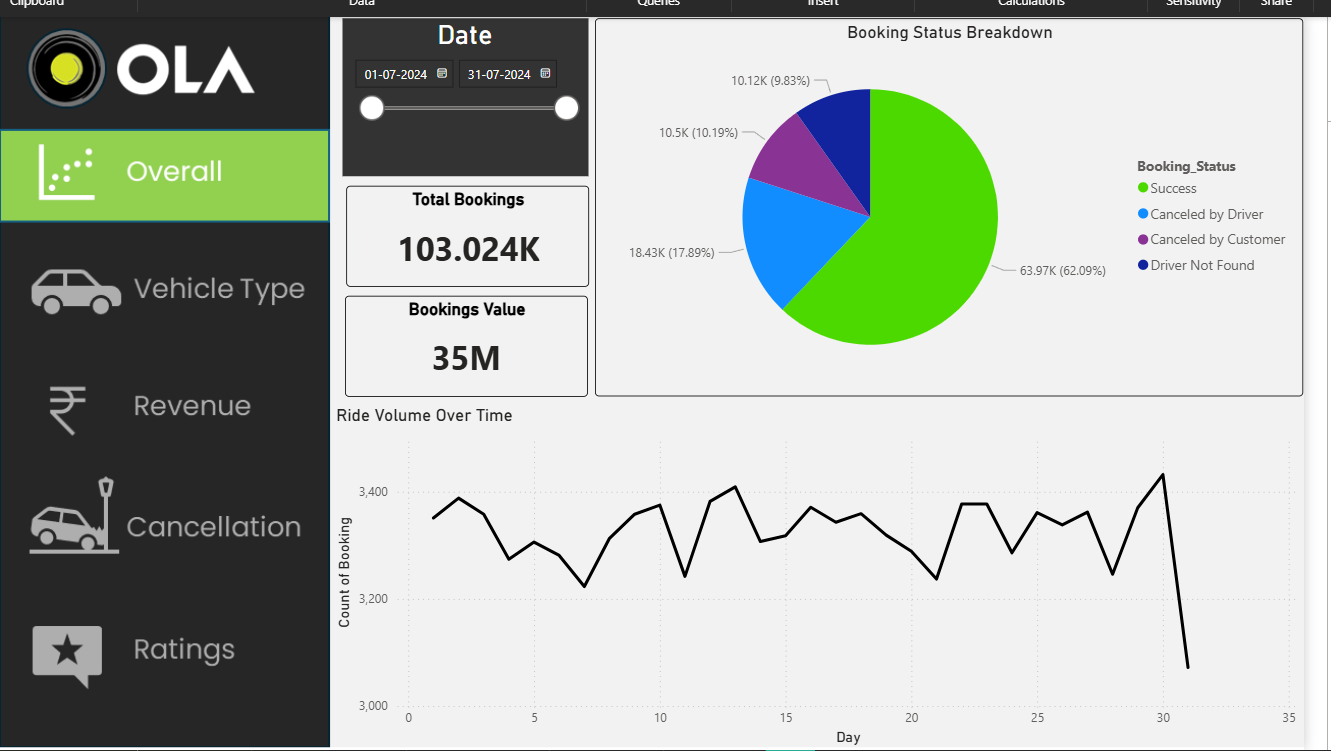

The dashboard page shown, as its layout file describes it:
{"tool":"powerbi","page":{"name":"OVERALL","canvas":[1280,720],"ordinal":0},"visuals":[{"type":"actionButton","box":[0,225.8,325.2,93.3],"z":0},{"type":"actionButton","box":[0,333.7,325.2,92],"z":1000},{"type":"actionButton","box":[0,451.5,325.2,92],"z":2000},{"type":"actionButton","box":[0,582,325,97],"z":3000},{"type":"lineChart","title":"Ride Volume Over Time","fields":{"Y":["CountNonNull(Bookings.Booking_ID)"],"Category":["Bookings.Date.1.Variation.Date Hierarchy.Day"]},"box":[325,380,955,340],"z":4000},{"type":"pieChart","title":"Booking Status Breakdown","fields":{"Category":["Bookings.Booking_Status"],"Y":["CountNonNull(Bookings.Booking_Status)"]},"box":[583.7,1.2,695.4,370.9],"z":5000},{"type":"slicer","title":"Date","fields":{"Values":["Bookings.Date.1"]},"box":[336,1.2,240.7,154.7],"z":6000},{"type":"cardVisual","title":"Total Bookings","fields":{"Data":["CountNonNull(Bookings.Booking_ID)"]},"box":[339.5,165.1,238.4,98.8],"z":7000},{"type":"actionButton","box":[0,111.7,325.2,88.3],"z":8000},{"type":"cardVisual","title":"Bookings Value","fields":{"Data":["Sum(Bookings.Booking_Value)"]},"box":[338.4,273.3,238.4,98.8],"z":9000}]}

Visuals, with their boxes in screenshot pixels (x1, y1, x2, y2):
actionButton: 0 242 327 338
actionButton: 0 353 327 447
actionButton: 0 473 327 568
actionButton: 0 607 326 707
"Ride Volume Over Time" lineChart: 326 400 1306 749
"Booking Status Breakdown" pieChart: 592 12 1305 392
"Date" slicer: 338 12 584 170
"Total Bookings" cardVisual: 341 180 586 281
actionButton: 0 125 327 215
"Bookings Value" cardVisual: 340 291 585 392
